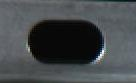holes: (26, 18, 104, 65)
